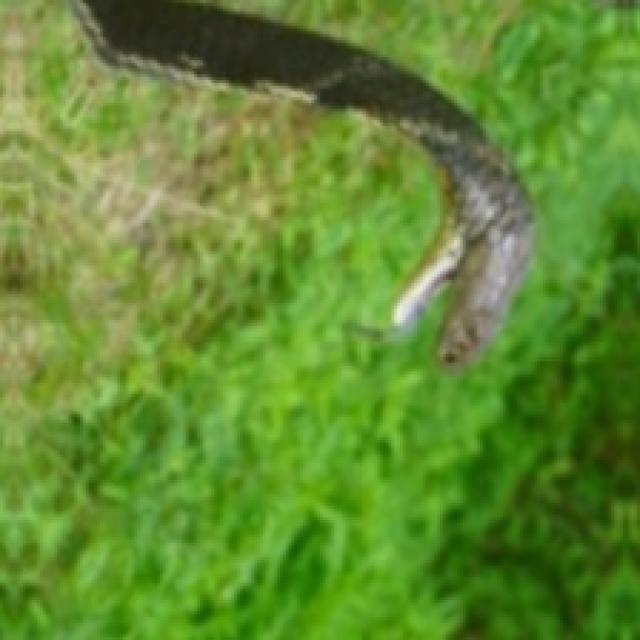king cobra: (74, 0, 531, 366)
